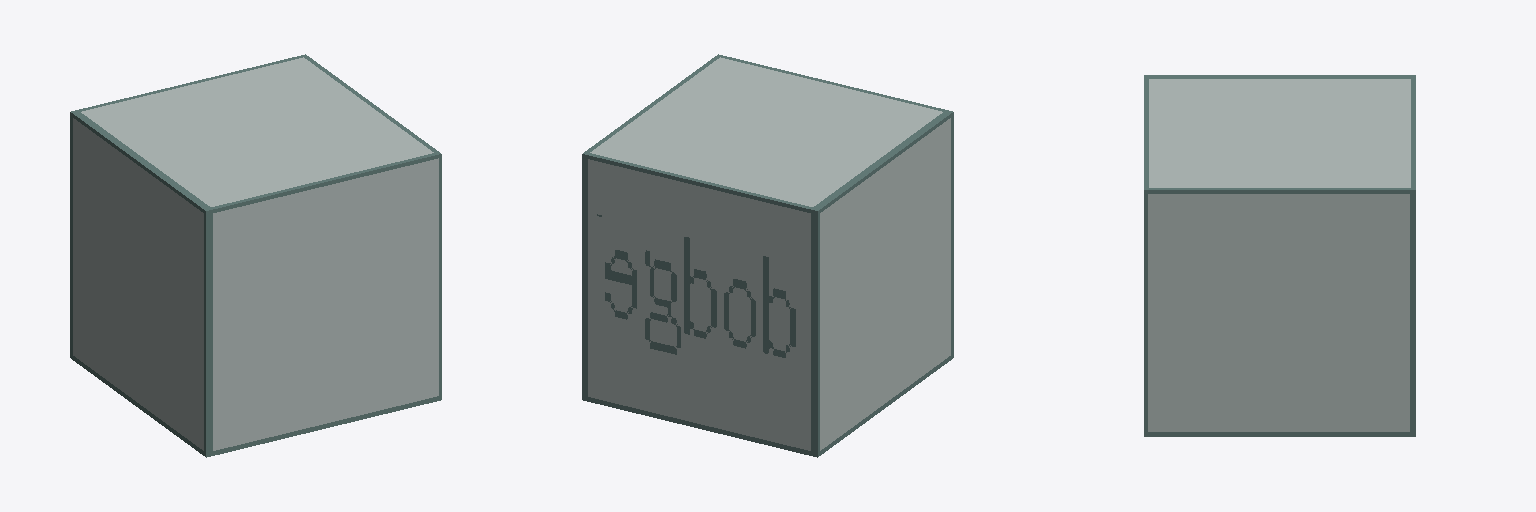
3 renders of one model, left to right at view 1: azimuth 30°, elevation 25°; view 2: azimuth 150°, elevation 25°; view 3: azimuth 270°, elevation 25°, orthographic.
Visible parts, largest first — view 1: Cube; view 2: Cube; view 3: Cube.
Part boxes in pixels (bbox=[...]): Cube: bbox=[70, 54, 441, 457]; Cube: bbox=[582, 54, 953, 457]; Cube: bbox=[1144, 75, 1415, 436].
Bounding box in the file's own units: 2 × 2 × 2.
Materials: 1 (1 with a texture image).